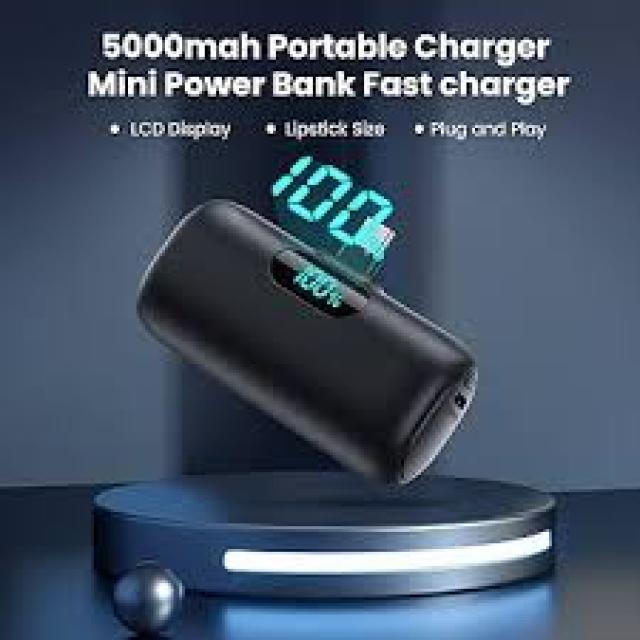portable-charger: (136, 193, 480, 502)
